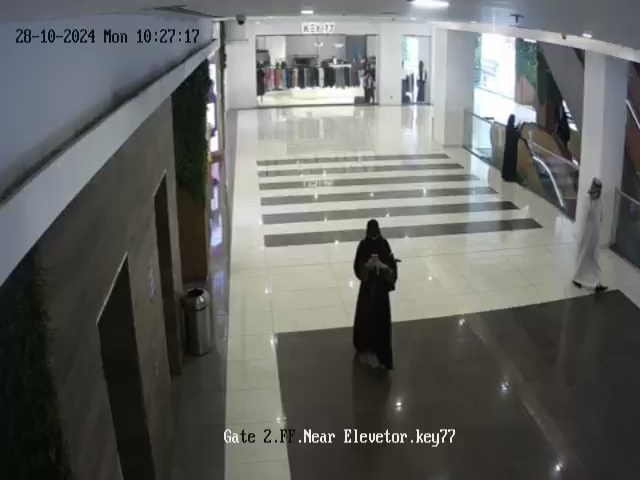female: (352, 219, 398, 375), (504, 112, 522, 187)
male: (566, 164, 607, 300)
other: (411, 57, 432, 104), (360, 70, 379, 102)
